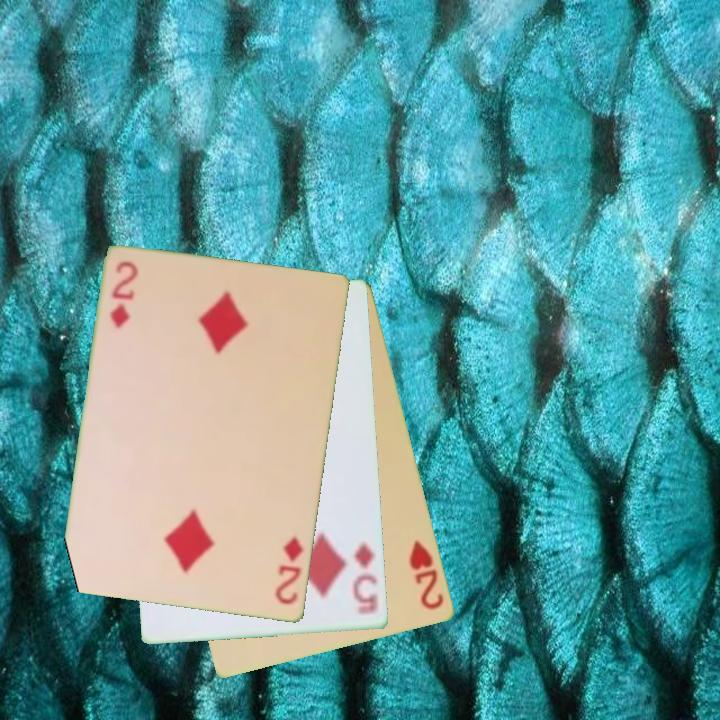2d: (272, 533, 307, 608), (107, 258, 141, 332)
2h: (406, 537, 448, 613)
5d: (350, 538, 381, 619)
